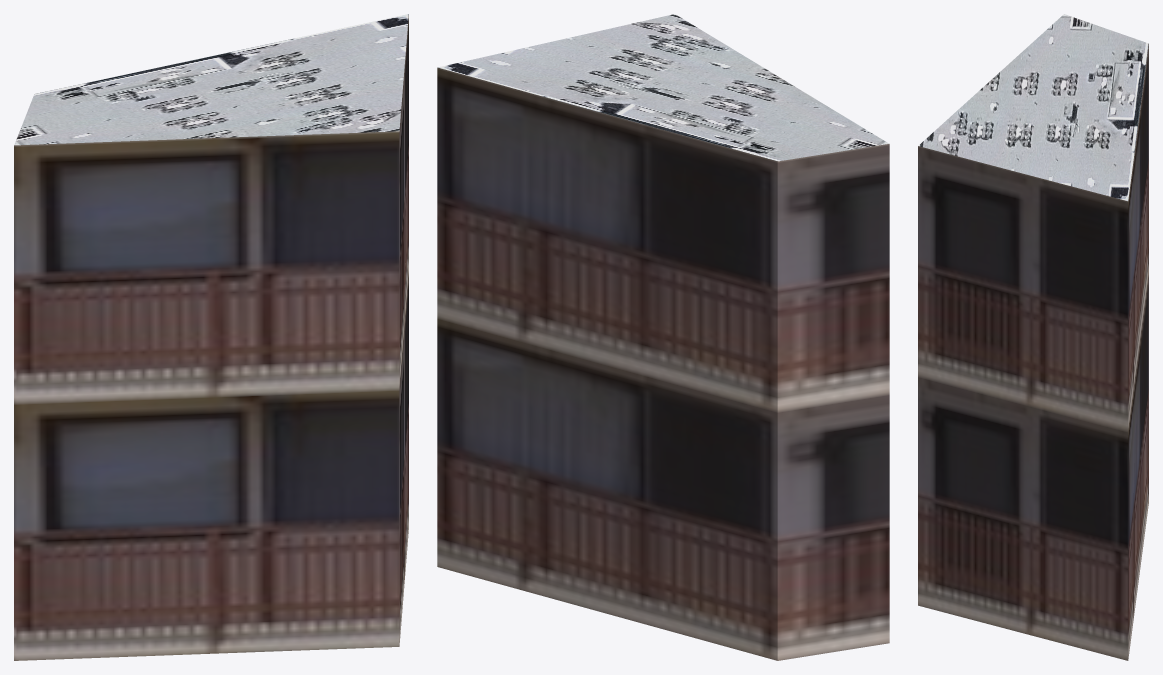
Rendered from ResTex__835.fbx.
The picture shows the model from 3 angles, left to right: view 1: azimuth 30°, elevation 25°; view 2: azimuth 150°, elevation 25°; view 3: azimuth 270°, elevation 25°; orthographic projection. The views are drawn at different scales.
Parts seen in each view (by area): view 1: CityEngineMaterial_6_m, CityEngineMaterial_8_m; view 2: CityEngineMaterial_6_m, CityEngineMaterial_8_m; view 3: CityEngineMaterial_6_m, CityEngineMaterial_8_m.
Part boxes in pixels (x1,y1,x2,y2): CityEngineMaterial_6_m: (14,14,408,660); CityEngineMaterial_8_m: (14,14,408,145); CityEngineMaterial_6_m: (437,67,889,660); CityEngineMaterial_8_m: (437,14,888,161); CityEngineMaterial_6_m: (918,44,1148,660); CityEngineMaterial_8_m: (918,14,1148,201).
Bounding box in the file's own units: 5.24 × 6 × 2.73.
Materials: 2 (2 with a texture image).
